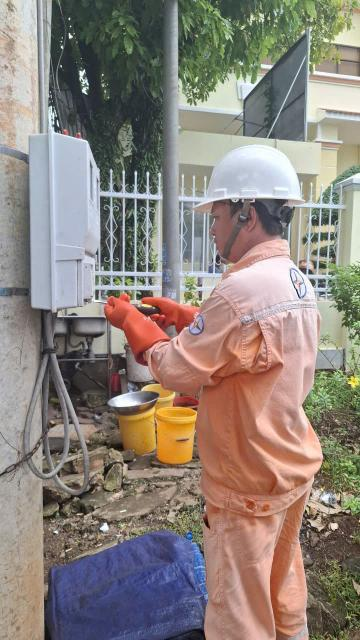gloves: (103, 282, 170, 356), (141, 283, 215, 333)
helmet: (185, 138, 314, 218)
